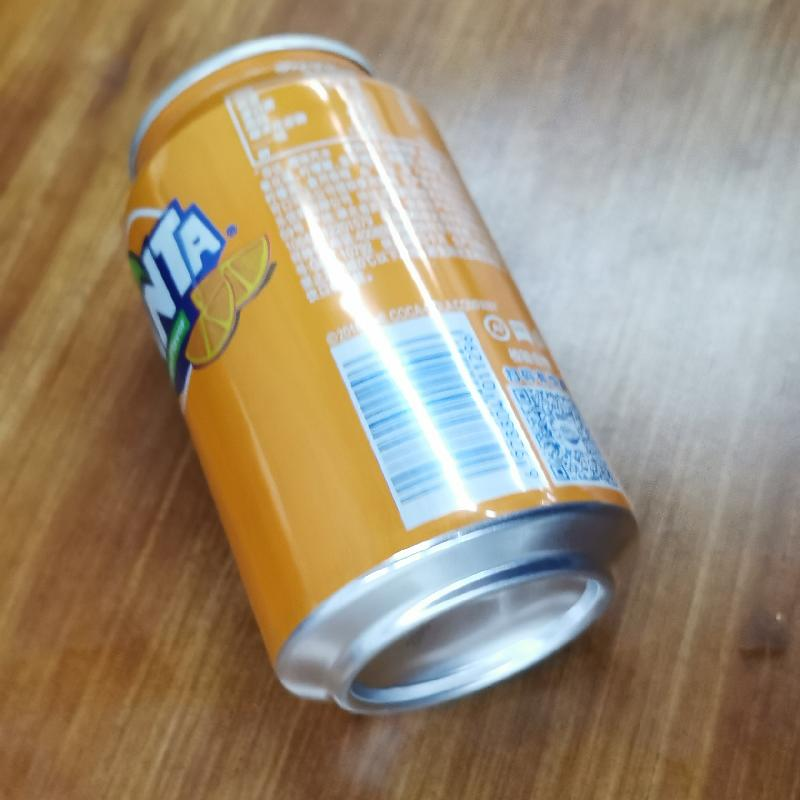cans: (116, 31, 647, 719)
